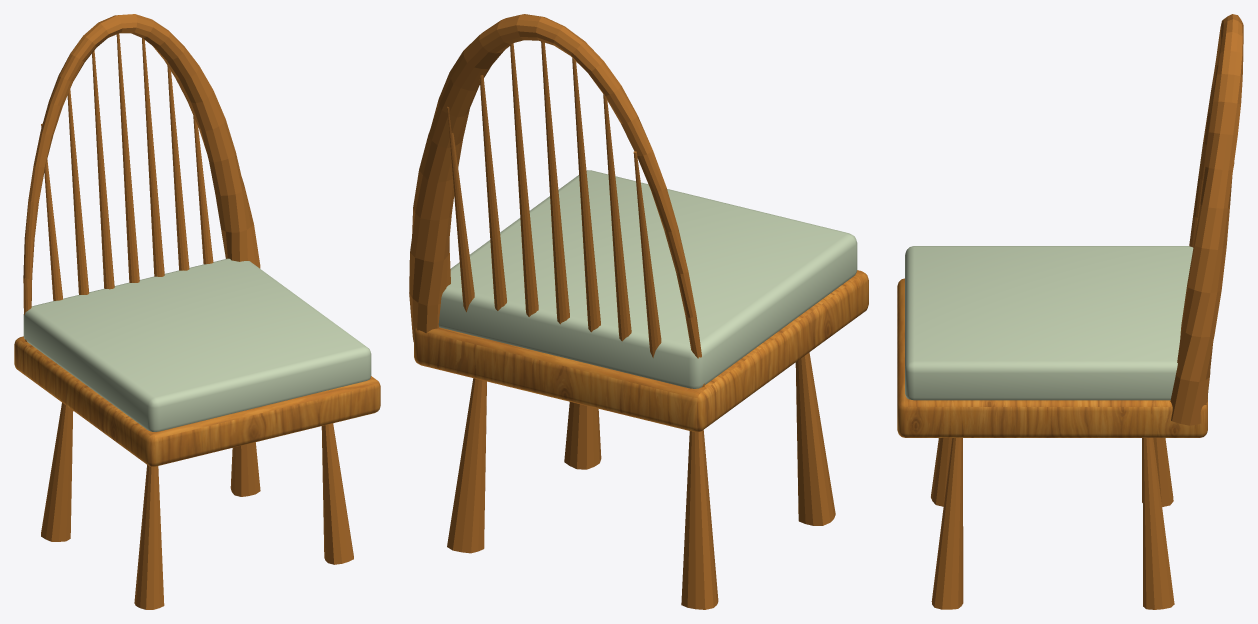
Rendered from breakfast-chair.glb.
3 renders of one model, left to right at view 1: azimuth 30°, elevation 25°; view 2: azimuth 150°, elevation 25°; view 3: azimuth 270°, elevation 25°, orthographic. The views are drawn at different scales.
Visible parts, largest first — view 1: breakfast-chair; view 2: breakfast-chair; view 3: breakfast-chair.
Part boxes in pixels (bbox=[...]): breakfast-chair: bbox=[14, 14, 380, 609]; breakfast-chair: bbox=[409, 14, 868, 609]; breakfast-chair: bbox=[897, 14, 1243, 609].
Size of the model in its own units: 0.45 by 0.85 by 0.5.
2 materials, 1 textured.
